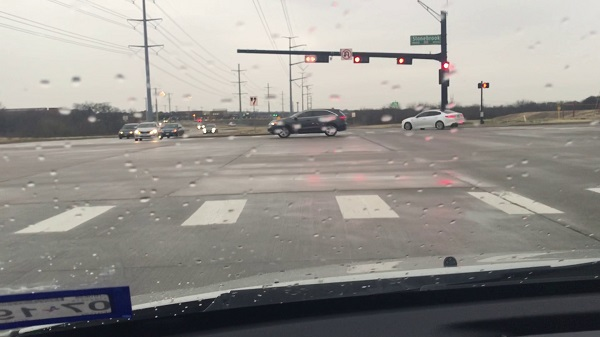car: (266, 108, 347, 136), (400, 109, 465, 133), (136, 124, 158, 139), (162, 122, 184, 137), (119, 125, 137, 138)
